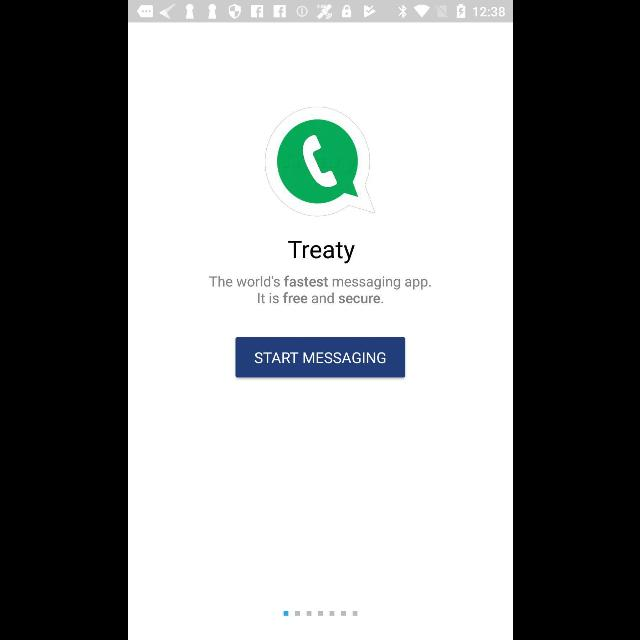image: (263, 106, 375, 216)
pageindicator: (283, 610, 357, 616)
text: (208, 275, 430, 303), (288, 240, 354, 264)
textbutton: (235, 337, 405, 378)
uppertaskbar: (128, 1, 512, 23)
